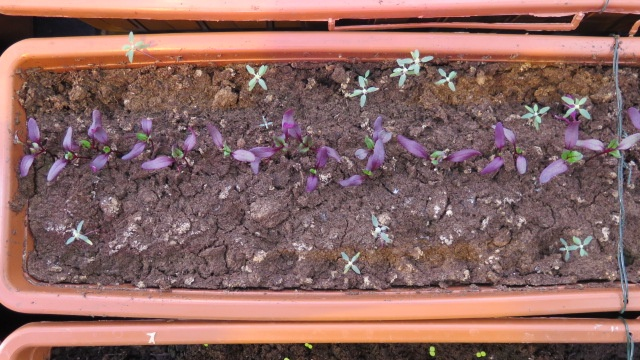crop: (395, 134, 481, 176), (145, 127, 207, 175), (337, 138, 387, 193), (538, 120, 582, 181), (47, 127, 90, 182), (206, 121, 250, 173), (288, 121, 342, 162), (84, 119, 121, 176), (252, 110, 295, 158), (13, 123, 50, 177), (577, 132, 639, 162), (120, 117, 156, 161), (501, 126, 530, 178), (302, 149, 334, 196), (484, 122, 507, 178)
weed: (121, 31, 159, 63), (348, 76, 380, 107), (62, 218, 95, 246), (242, 63, 271, 92), (521, 103, 549, 131), (561, 95, 592, 119), (369, 215, 392, 246), (337, 250, 364, 275), (434, 66, 458, 92), (572, 235, 594, 257), (557, 237, 576, 261), (259, 115, 273, 129)
